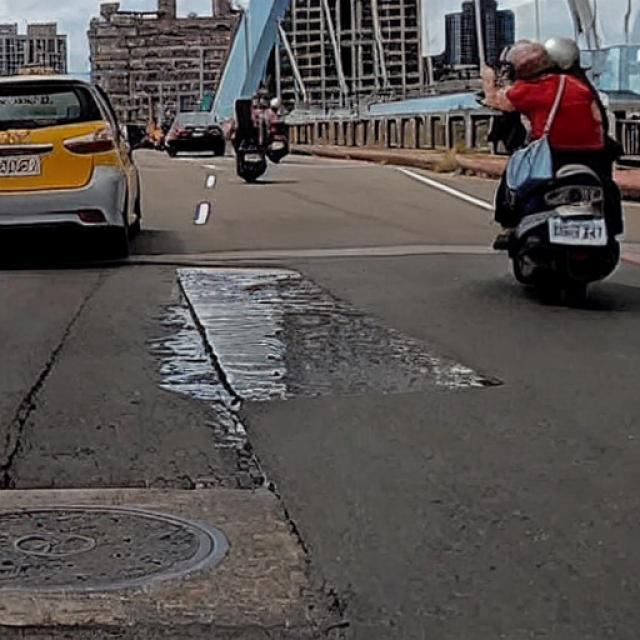puddle: (180, 265, 495, 398)
